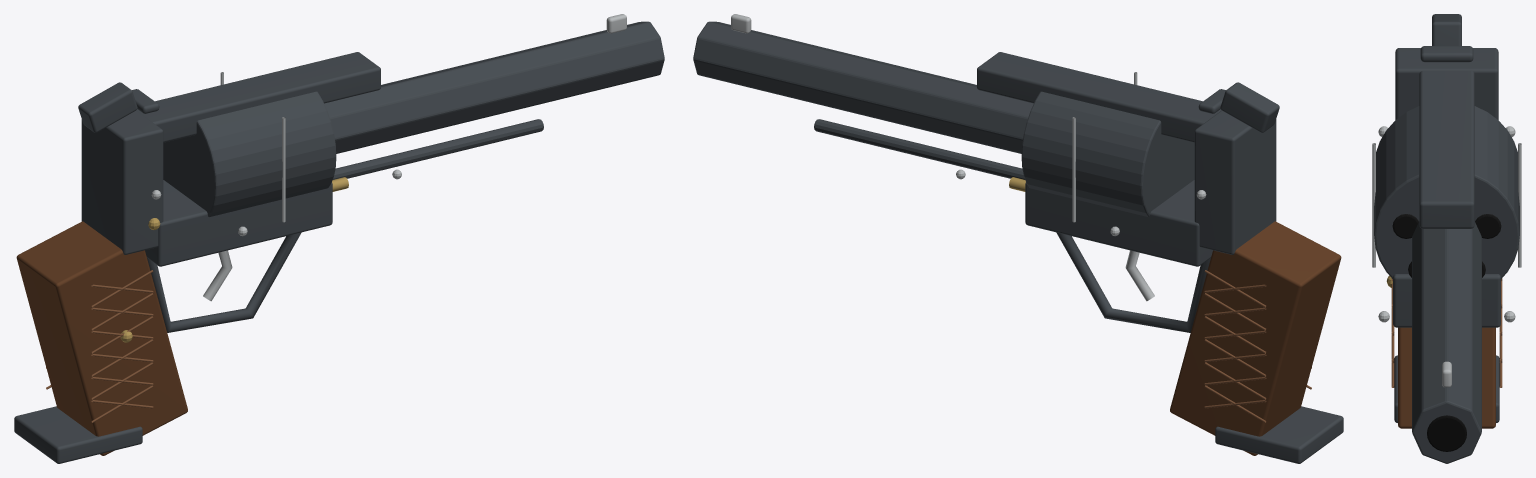
The model's file is adams_1851.glb.
The picture shows the model from 3 angles, left to right: view 1: azimuth 30°, elevation 25°; view 2: azimuth 150°, elevation 25°; view 3: azimuth 270°, elevation 25°; orthographic projection. The views are drawn at different scales.
Parts seen in each view (by area): view 1: Grip, Octagonal barrel, Five chamber cylinder, Rear frame, Solid frame, Top strap, Grip butt, Loading lever, Trigger guard, Hammer; view 2: Grip, Octagonal barrel, Five chamber cylinder, Rear frame, Solid frame, Top strap, Grip butt, Loading lever, Trigger guard, Hammer; view 3: Octagonal barrel, Five chamber cylinder, Top strap, Rear frame, Grip, Solid frame, Muzzle bore, Hammer, Rear sight notch, Grip butt, Chamber mouth.001, Chamber mouth.004 (+3 smaller).
Part boxes in pixels (x1,y1,x2,y2): Grip: (16, 221, 187, 455); Octagonal barrel: (324, 21, 664, 153); Five chamber cylinder: (163, 91, 336, 216); Rear frame: (81, 110, 163, 254); Solid frame: (145, 180, 332, 266); Top strap: (136, 52, 380, 142); Grip butt: (14, 406, 142, 463); Loading lever: (332, 119, 543, 179); Trigger guard: (147, 232, 301, 332); Hammer: (78, 82, 137, 132); Grip: (1170, 221, 1341, 455); Octagonal barrel: (693, 21, 1033, 153); Five chamber cylinder: (1021, 91, 1194, 216); Rear frame: (1194, 110, 1276, 254); Solid frame: (1025, 180, 1212, 266); Top strap: (977, 52, 1221, 142); Grip butt: (1215, 406, 1343, 463); Loading lever: (814, 119, 1025, 179); Trigger guard: (1056, 232, 1210, 332); Hammer: (1220, 82, 1279, 132); Octagonal barrel: (1412, 221, 1481, 463); Five chamber cylinder: (1374, 106, 1519, 278); Top strap: (1419, 70, 1474, 228); Rear frame: (1395, 48, 1498, 119); Grip: (1398, 327, 1495, 428); Solid frame: (1393, 274, 1500, 327); Muzzle bore: (1427, 415, 1466, 451); Hammer: (1432, 14, 1461, 45); Rear sight notch: (1420, 46, 1473, 62); Grip butt: (1394, 355, 1499, 422); Chamber mouth.001: (1475, 214, 1501, 238); Chamber mouth.004: (1392, 214, 1418, 238).
Size of the model in its own units: 0.3362 by 0.1798 by 0.0595.
